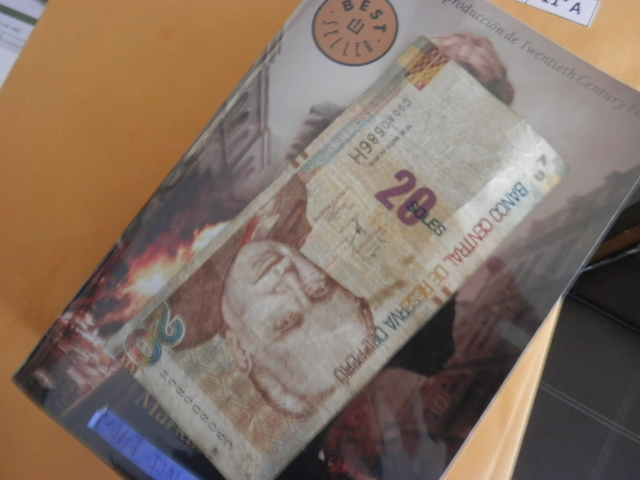B20: (135, 50, 570, 467)
